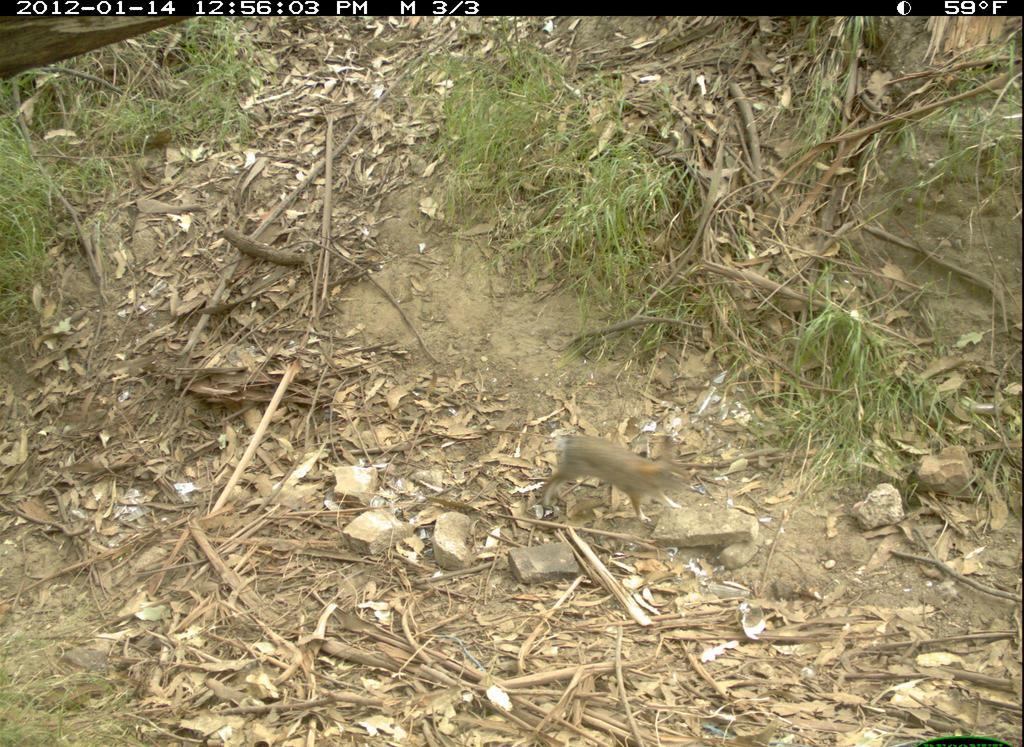rabbit: (532, 423, 692, 530)
